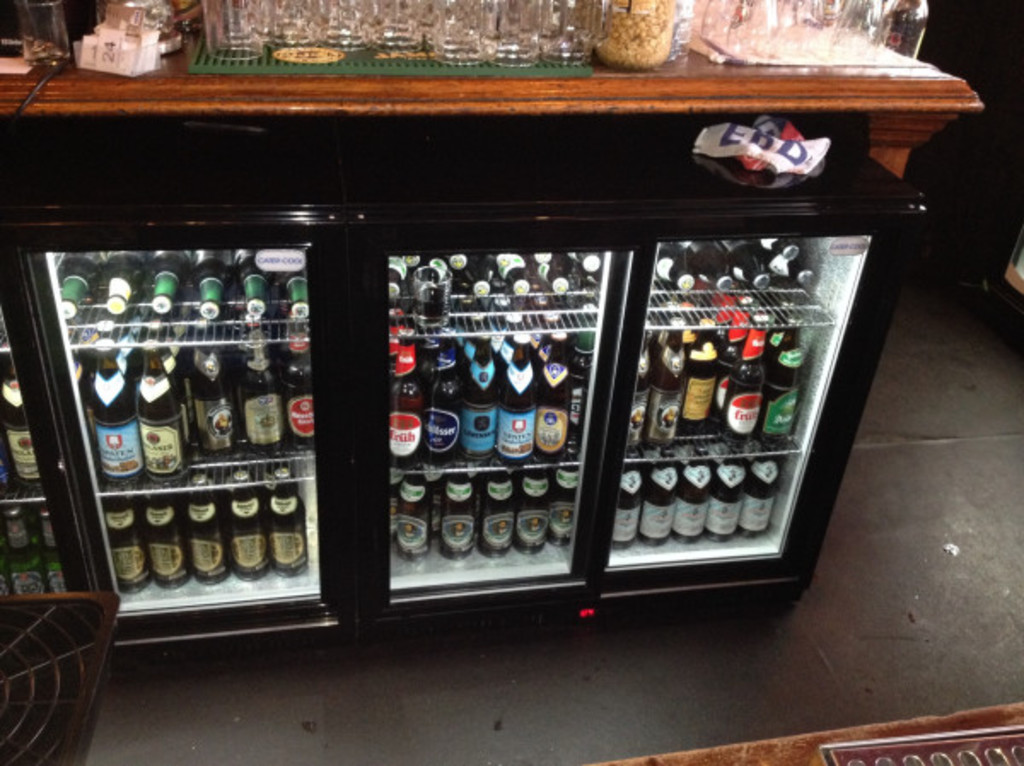refrigerator door: (38, 239, 323, 621), (360, 236, 583, 616), (611, 246, 817, 597)
